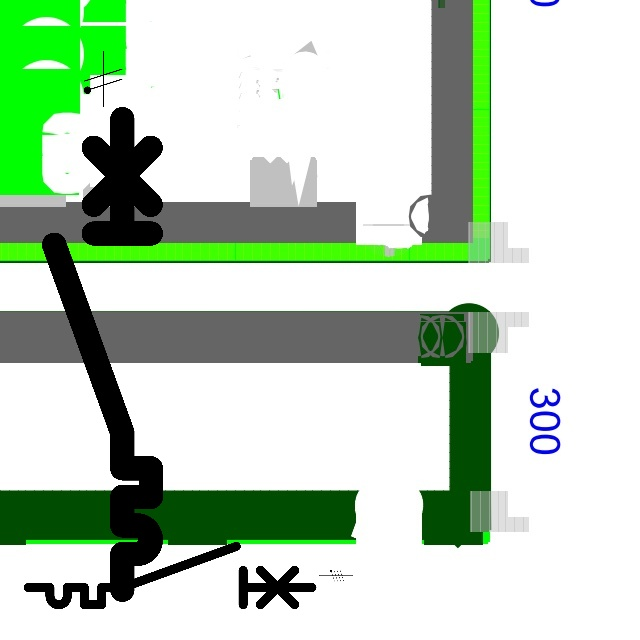interruptor_termomagnetico: (42, 106, 163, 601), (21, 539, 319, 612)
